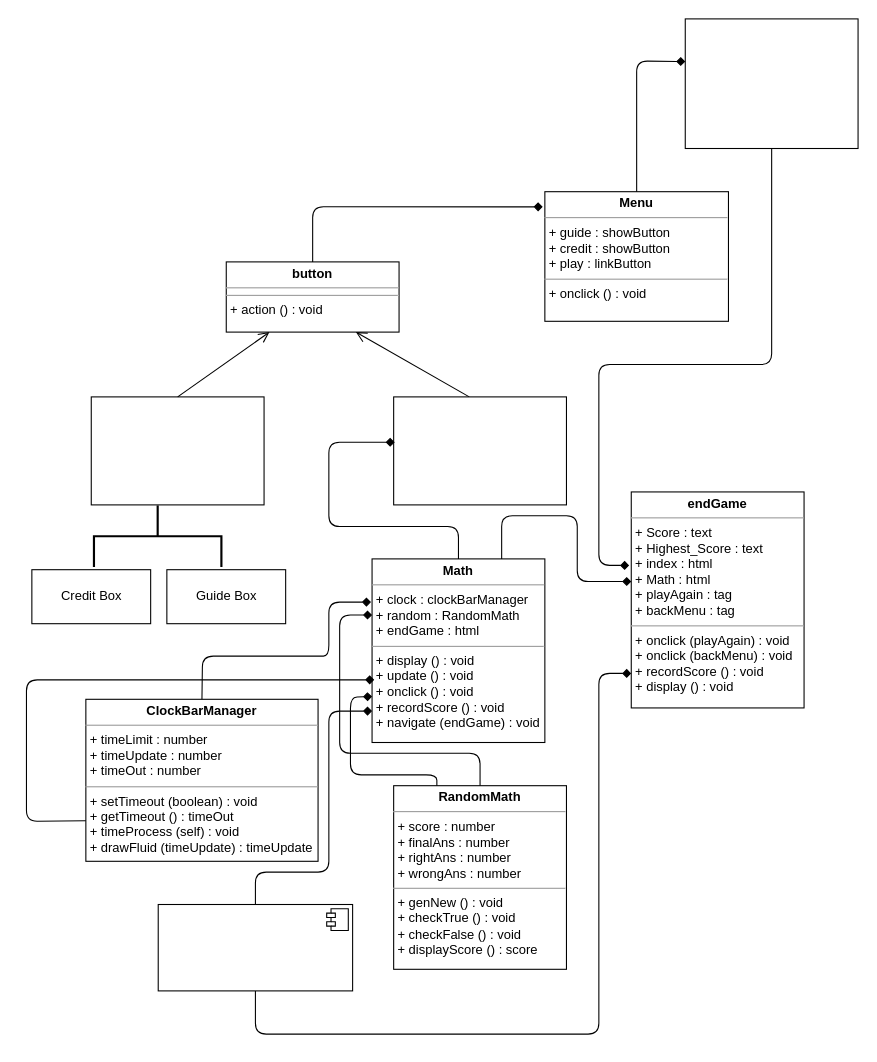
Image size: 877x1062. Some labels were removed from this diagram. The shapes that lost their labels are listed below. From the top down, each one's centre as x and y in pixels, then its label:
(771,83): index + Menu: html + navigate (Menu) : void
(177,450): showButton + Box : text + hide () : void + display () : void
(479,450): linkButton + Math : html + navigate (Math) : void
(255,947): Local Storage + user Score: string + highest Score: string
